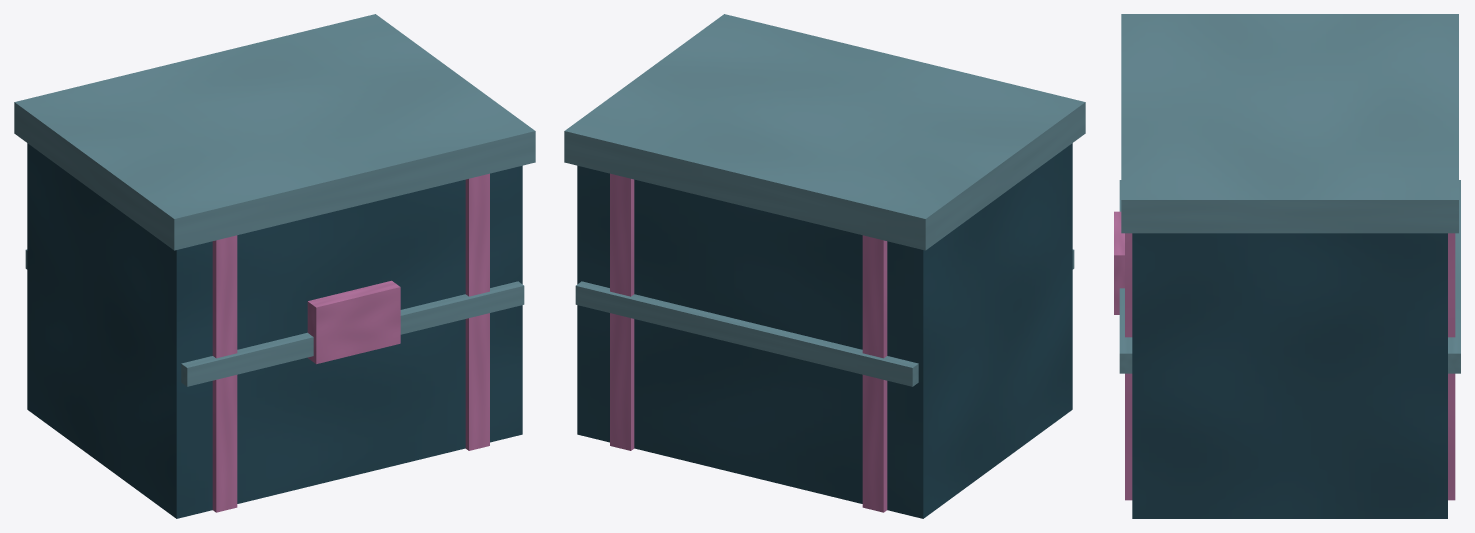
The model's file is atlas100-abyss-util02.glb.
3 views of the same model, side by side, from view 1: azimuth 30°, elevation 25°; view 2: azimuth 150°, elevation 25°; view 3: azimuth 270°, elevation 25° (orthographic). The views are drawn at different scales.
Visible parts, largest first — view 1: atlas100-abyss-util02:part-000, atlas100-abyss-util02:part-005, atlas100-abyss-util02:part-001, atlas100-abyss-util02:part-004, atlas100-abyss-util02:part-002, atlas100-abyss-util02:part-006; view 2: atlas100-abyss-util02:part-000, atlas100-abyss-util02:part-005, atlas100-abyss-util02:part-003, atlas100-abyss-util02:part-001, atlas100-abyss-util02:part-002; view 3: atlas100-abyss-util02:part-000, atlas100-abyss-util02:part-005, atlas100-abyss-util02:part-002, atlas100-abyss-util02:part-003, atlas100-abyss-util02:part-006, atlas100-abyss-util02:part-004.
Boxes of the visible parts, left/top/right/bottom form: atlas100-abyss-util02:part-000: left=27, top=143, right=522, bottom=518; atlas100-abyss-util02:part-005: left=14, top=14, right=535, bottom=250; atlas100-abyss-util02:part-001: left=212, top=235, right=237, bottom=512; atlas100-abyss-util02:part-004: left=181, top=281, right=524, bottom=386; atlas100-abyss-util02:part-002: left=465, top=173, right=489, bottom=450; atlas100-abyss-util02:part-006: left=307, top=280, right=400, bottom=364; atlas100-abyss-util02:part-000: left=577, top=143, right=1072, bottom=518; atlas100-abyss-util02:part-005: left=564, top=14, right=1085, bottom=250; atlas100-abyss-util02:part-003: left=575, top=281, right=918, bottom=386; atlas100-abyss-util02:part-001: left=862, top=235, right=887, bottom=512; atlas100-abyss-util02:part-002: left=610, top=173, right=634, bottom=450; atlas100-abyss-util02:part-000: left=1132, top=233, right=1447, bottom=518; atlas100-abyss-util02:part-005: left=1121, top=14, right=1458, bottom=233; atlas100-abyss-util02:part-002: left=1125, top=233, right=1455, bottom=500; atlas100-abyss-util02:part-003: left=1448, top=180, right=1460, bottom=373; atlas100-abyss-util02:part-006: left=1114, top=211, right=1124, bottom=314; atlas100-abyss-util02:part-004: left=1119, top=180, right=1132, bottom=373.
Size of the model in its own units: 1.31 by 1.06 by 1.03.
3 materials, 3 textured.
